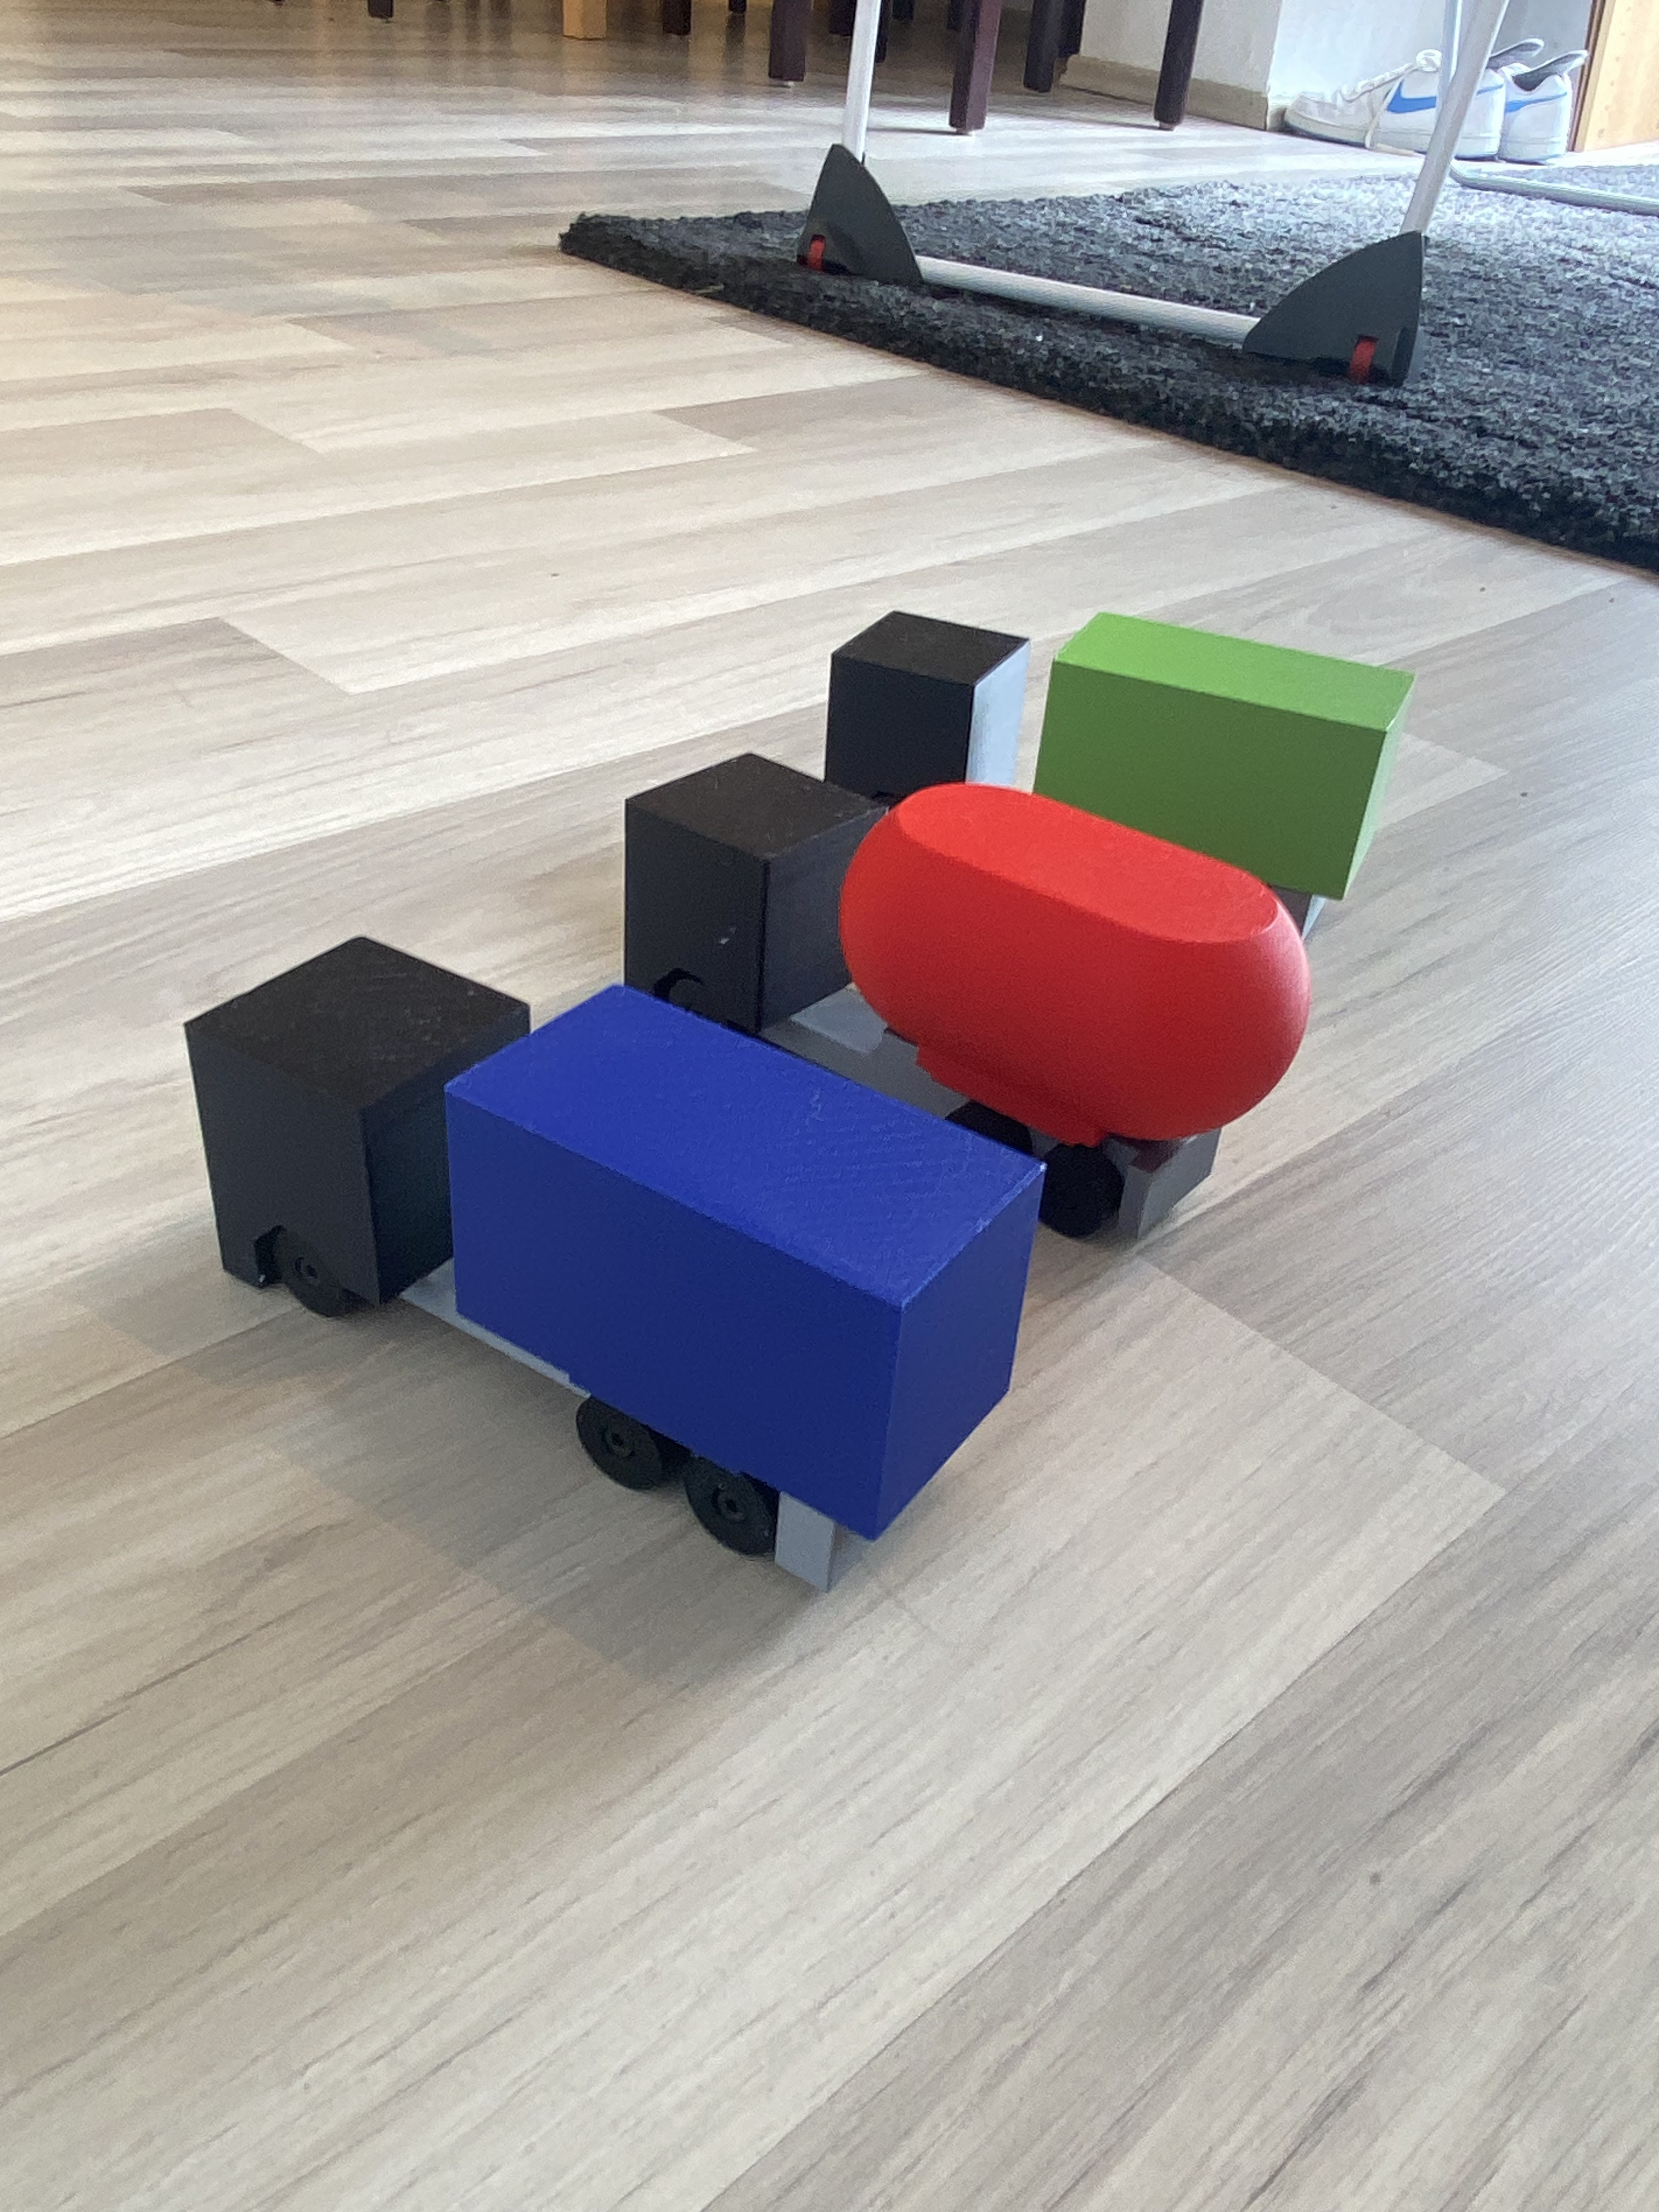blue_truck: (136, 982, 1063, 1461)
green_truck: (831, 611, 1401, 859)
red_truck: (596, 775, 1305, 1099)
